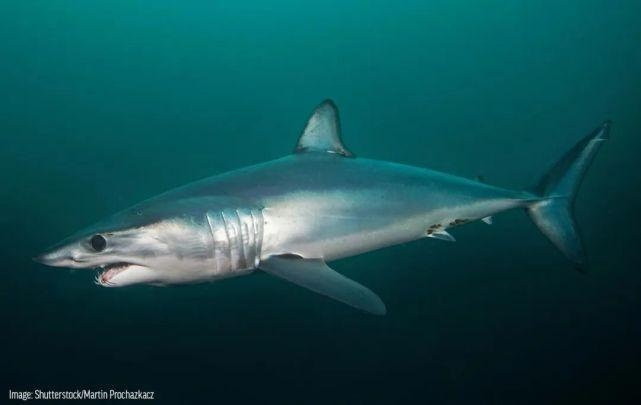fish: (50, 91, 613, 312)
